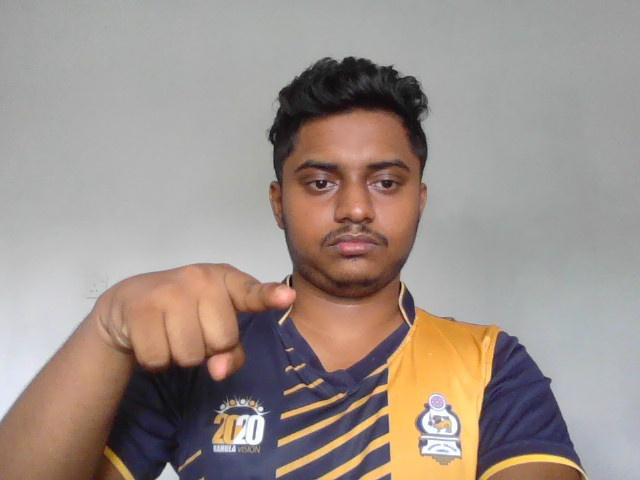Going To: (101, 259, 306, 392)
